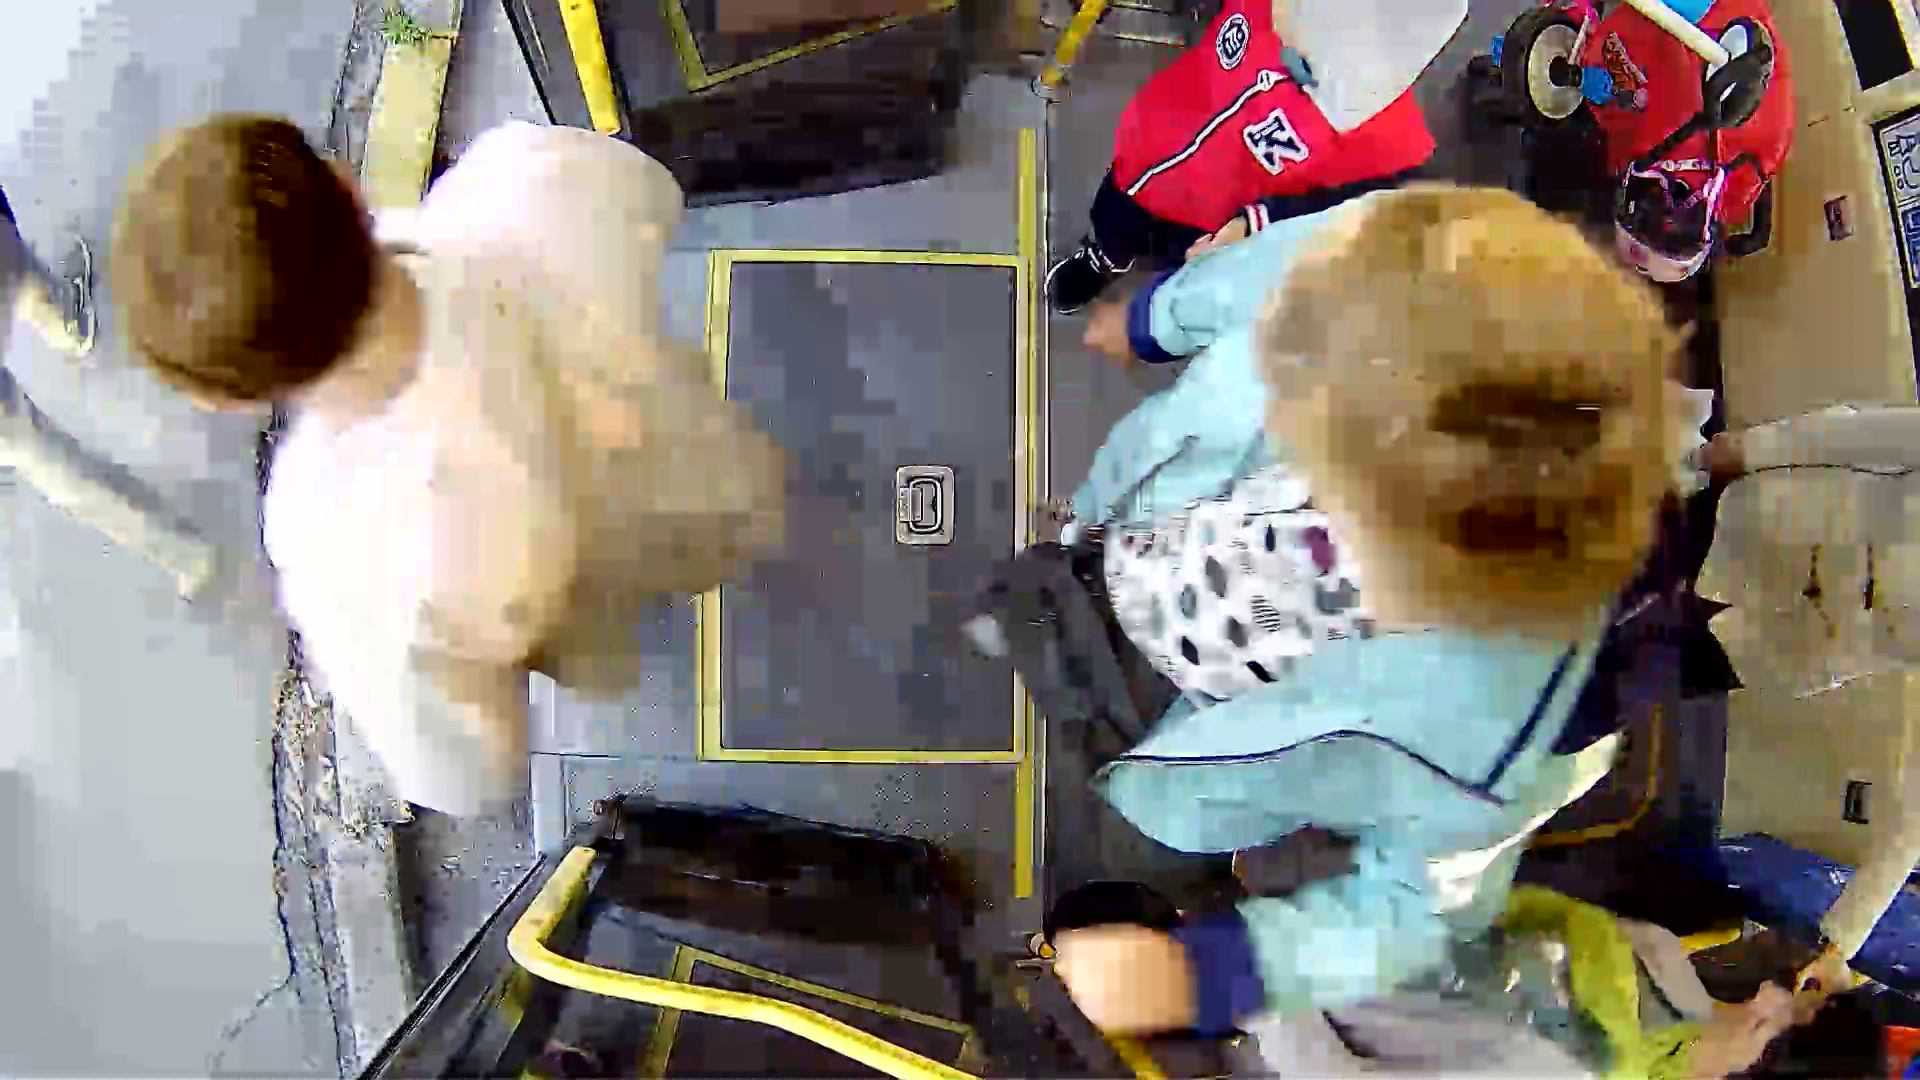person: (970, 204, 1713, 961), (118, 87, 847, 799)
